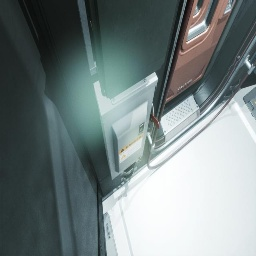SafetySwitchPanel ,: (93, 72, 160, 180)
